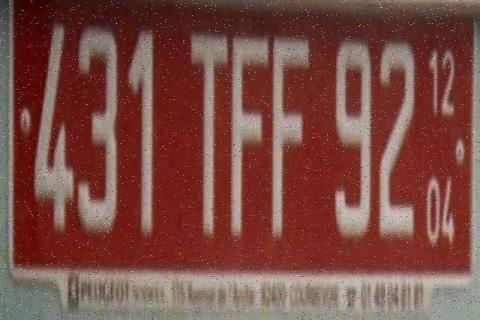LicensePlate: (10, 0, 476, 296)
